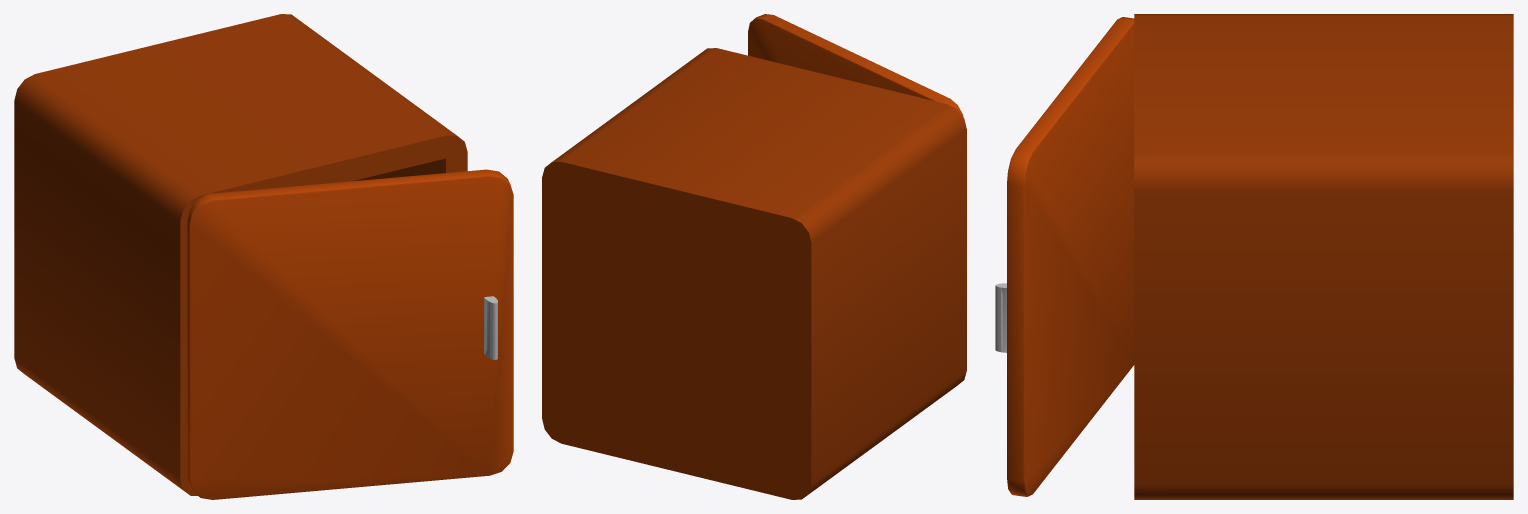
The model's file is ShortCupWall.fbx.
3 renders of one model, left to right at view 1: azimuth 30°, elevation 25°; view 2: azimuth 150°, elevation 25°; view 3: azimuth 270°, elevation 25°, orthographic. The views are drawn at different scales.
Visible parts, largest first — view 1: Shortcupboard2; view 2: Shortcupboard2; view 3: Shortcupboard2.
Part boxes in pixels (x1=…): Shortcupboard2: x1=14, y1=14, x2=513, y2=499; Shortcupboard2: x1=542, y1=14, x2=966, y2=499; Shortcupboard2: x1=995, y1=14, x2=1513, y2=499.
Size of the model in its own units: 59.26 by 59.26 by 80.94.
Materials: 1 (1 with a texture image).
